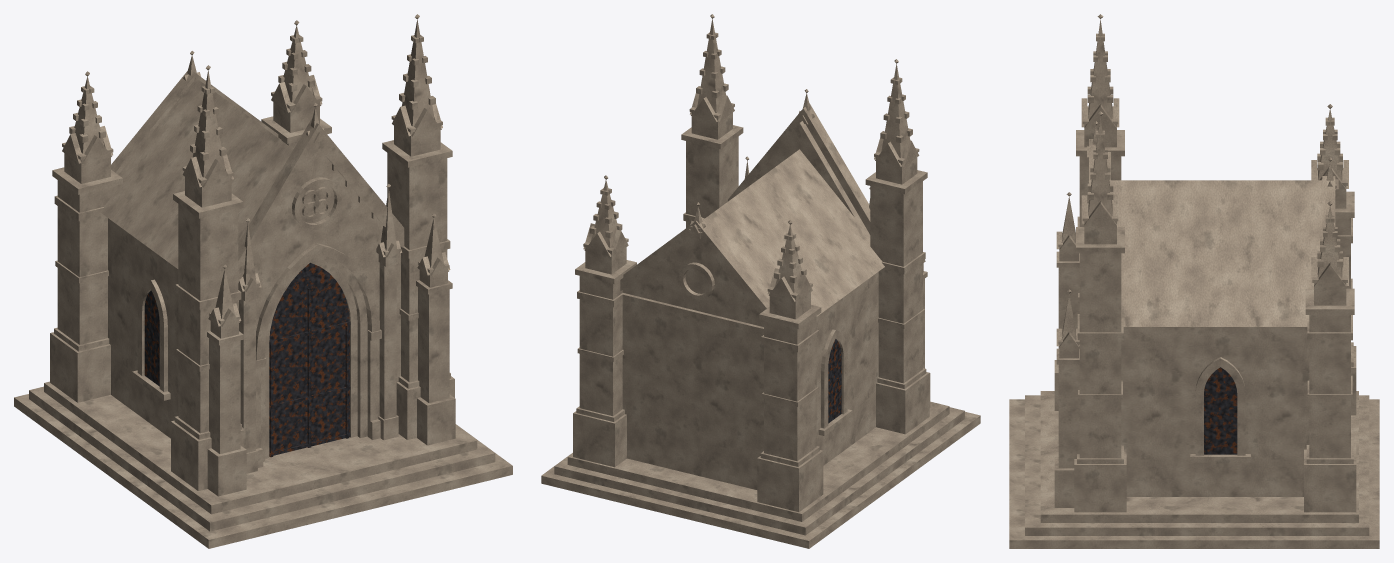
Rendered from capilla.obj.
3 renders of one model, left to right at view 1: azimuth 30°, elevation 25°; view 2: azimuth 150°, elevation 25°; view 3: azimuth 270°, elevation 25°, orthographic. The views are drawn at different scales.
Visible parts, largest first — view 1: Capilla_Cantera, Capilla_Hierro; view 2: Capilla_Cantera, Capilla_Hierro; view 3: Capilla_Cantera, Capilla_Hierro.
Boxes of the visible parts, x1,y1,x2,y2 form: Capilla_Cantera: [14, 14, 512, 548]; Capilla_Hierro: [144, 262, 350, 457]; Capilla_Cantera: [541, 14, 980, 548]; Capilla_Hierro: [828, 339, 841, 423]; Capilla_Cantera: [1009, 14, 1379, 548]; Capilla_Hierro: [1204, 367, 1237, 454].
Size of the model in its own units: 6.4 by 8.79 by 7.1.
2 materials, 2 textured.
